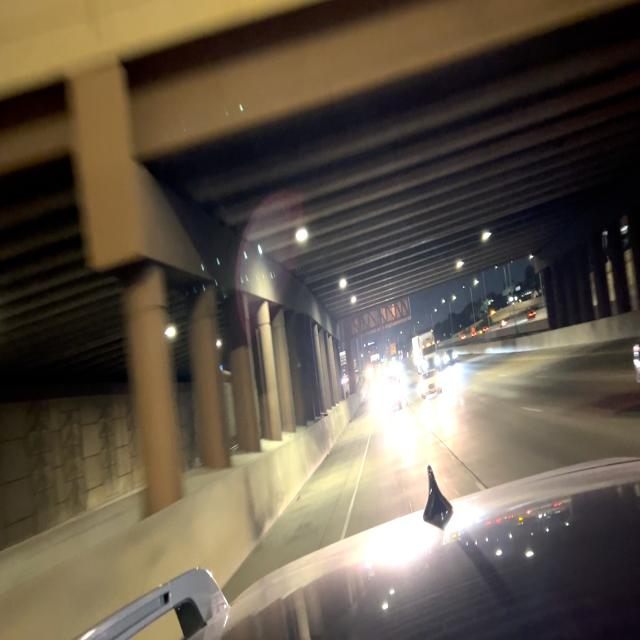back-of-sign: (339, 296, 412, 343)
